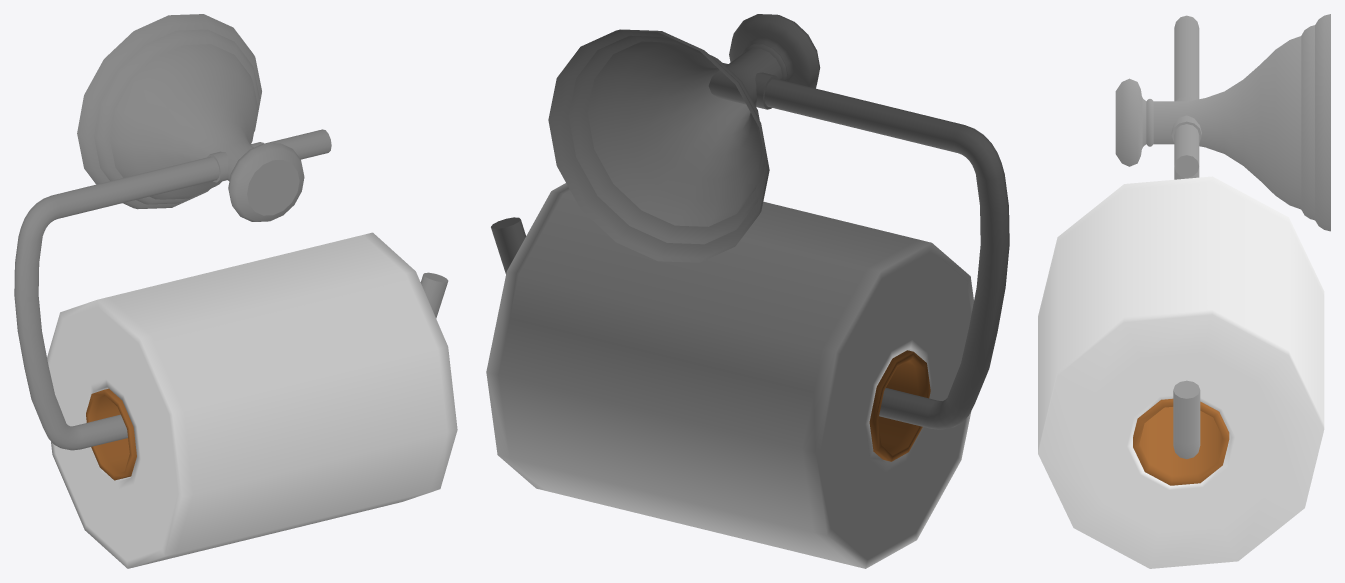
Rendered from ToiletPaperHanger_faceeb95.obj.
3 views of the same model, side by side, from view 1: azimuth 30°, elevation 25°; view 2: azimuth 150°, elevation 25°; view 3: azimuth 270°, elevation 25° (orthographic). The views are drawn at different scales.
Parts seen in each view (by area): view 1: Paper_0e5edf17, toilet_paper_hanger_16_a00dde85, Roll_ba2d9e88; view 2: Paper_0e5edf17, toilet_paper_hanger_16_a00dde85, Roll_ba2d9e88; view 3: Paper_0e5edf17, toilet_paper_hanger_16_a00dde85, Roll_ba2d9e88.
Boxes of the visible parts, x1=… form: Paper_0e5edf17: x1=47, y1=232, x2=457, y2=568; toilet_paper_hanger_16_a00dde85: x1=14, y1=14, x2=448, y2=450; Roll_ba2d9e88: x1=86, y1=388, x2=136, y2=480; Paper_0e5edf17: x1=486, y1=183, x2=973, y2=568; toilet_paper_hanger_16_a00dde85: x1=491, y1=14, x2=1009, y2=429; Roll_ba2d9e88: x1=869, y1=350, x2=930, y2=461; Paper_0e5edf17: x1=1038, y1=176, x2=1324, y2=568; toilet_paper_hanger_16_a00dde85: x1=1115, y1=14, x2=1330, y2=459; Roll_ba2d9e88: x1=1133, y1=398, x2=1229, y2=485.
Bounding box in the file's own units: 0.1852 × 0.1882 × 0.1059.
